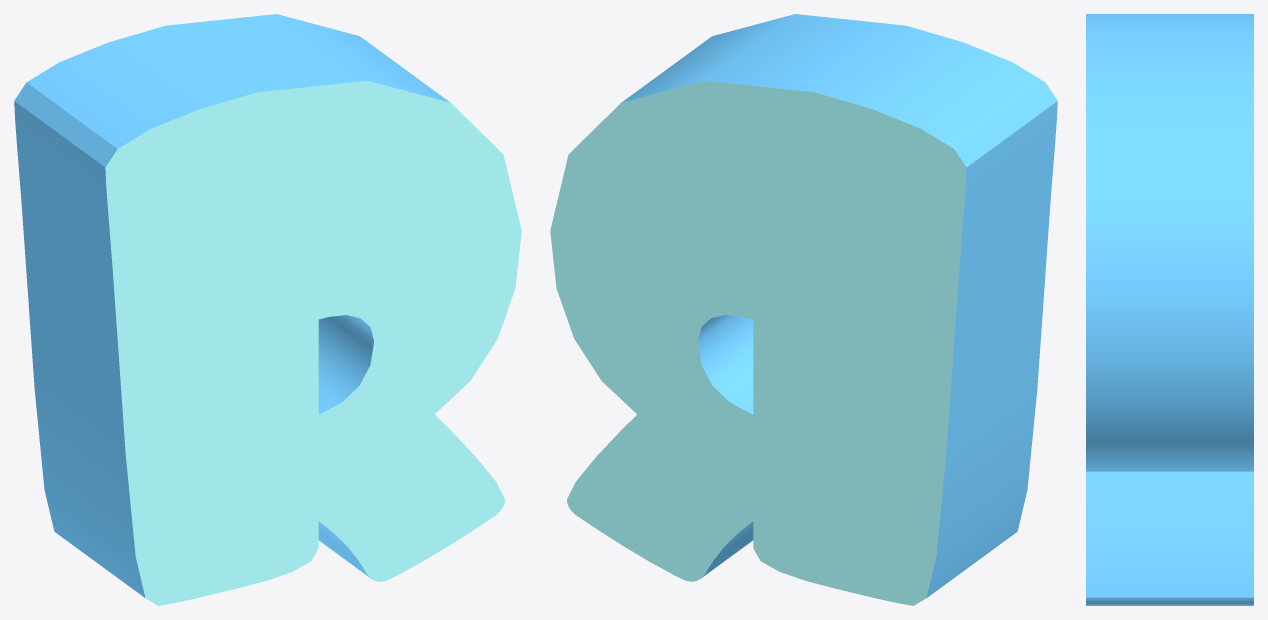
3 views of the same model, side by side, from view 1: azimuth 30°, elevation 25°; view 2: azimuth 150°, elevation 25°; view 3: azimuth 270°, elevation 25° (orthographic). The views are drawn at different scales.
Visible parts, largest first — view 1: r; view 2: r; view 3: r.
Part boxes in pixels (bbox=[...]): r: bbox=[14, 14, 521, 605]; r: bbox=[550, 14, 1057, 605]; r: bbox=[1086, 14, 1253, 605].
Size of what is drawn, in the model's own units: 0.4218 by 0.5034 by 0.16.
